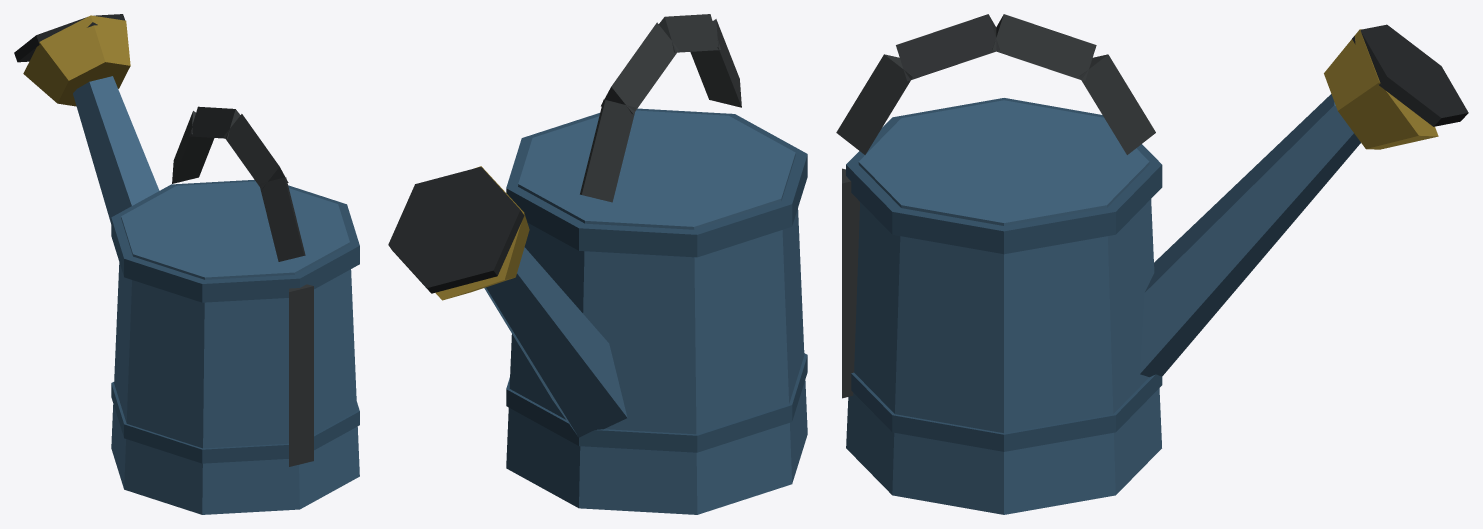
The model's file is tool_watering_can.glb.
3 renders of one model, left to right at view 1: azimuth 30°, elevation 25°; view 2: azimuth 150°, elevation 25°; view 3: azimuth 270°, elevation 25°, orthographic. The views are drawn at different scales.
Parts seen in each view (by area): view 1: Can; view 2: Can; view 3: Can.
Part boxes in pixels (<box>): Can: <box>14,14,359,514</box>; Can: <box>388,14,807,514</box>; Can: <box>836,14,1468,514</box>.
Size of the model in its own units: 0.2 by 0.3031 by 0.4002.
